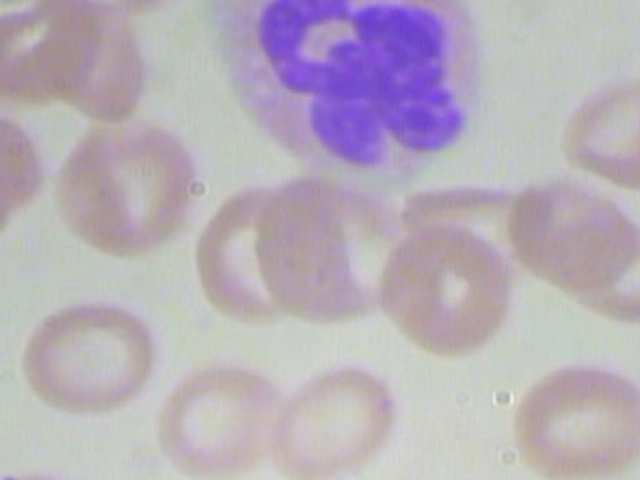Platelets: (0, 0, 36, 10)
RBC: (46, 113, 203, 274), (372, 227, 518, 364), (13, 294, 155, 420), (268, 353, 406, 480), (514, 350, 640, 480), (507, 175, 640, 292), (161, 357, 285, 480), (0, 0, 116, 113), (0, 111, 51, 233), (0, 471, 107, 480), (634, 325, 640, 480)
WBC: (201, 0, 496, 186)
